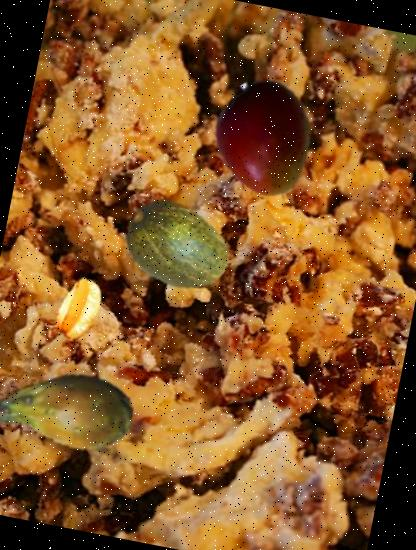Cactus: (0, 324, 144, 490)
Carambula: (43, 272, 118, 346)
Mango: (197, 70, 334, 207)
Melon: (116, 179, 242, 306)
